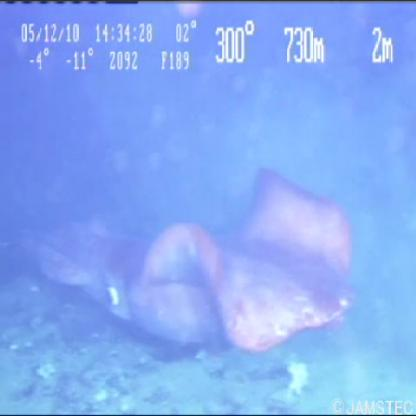Bio: (26, 163, 360, 355)
